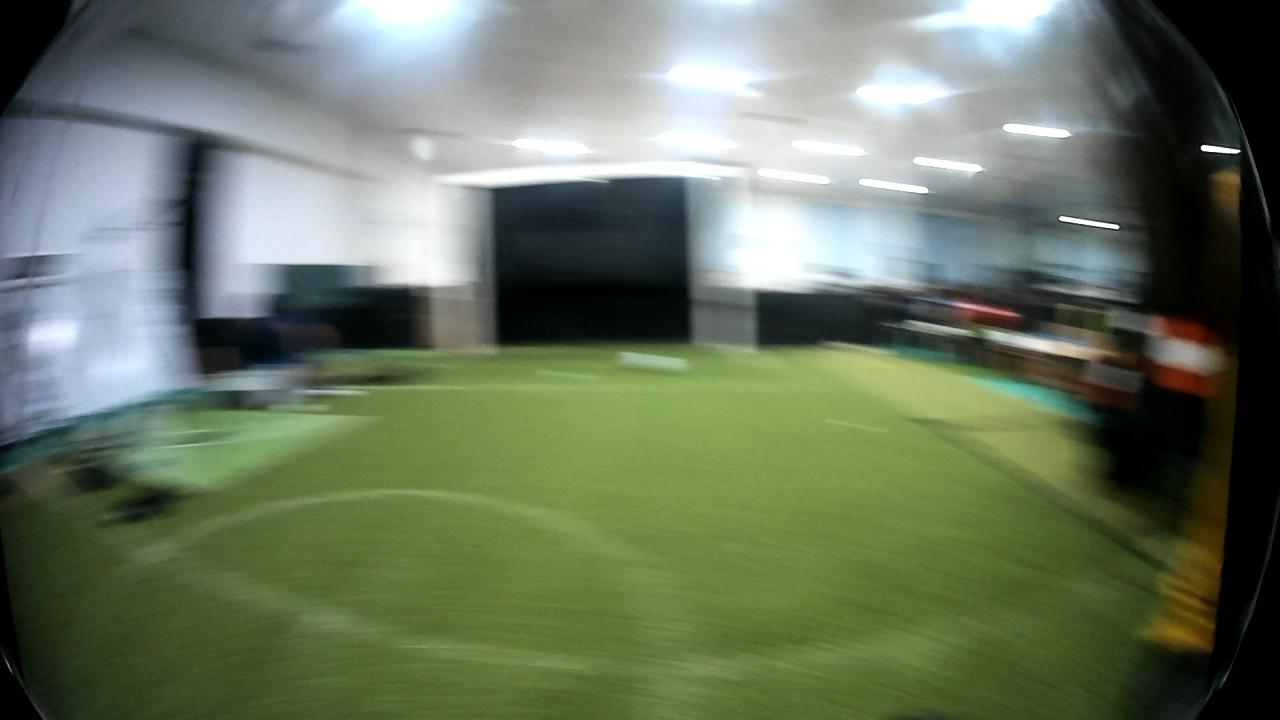ball: (618, 342, 693, 379)
